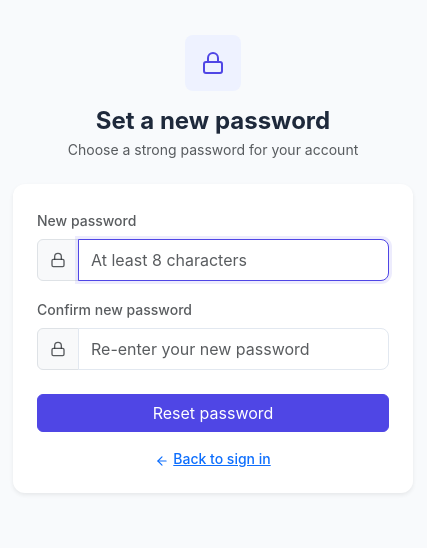
Test case: ResetPassword › rejects mismatched passwords
This screenshot has width=427, height=548.
Type "NewPassword1" into the password field with placeholder "At least 8 characters". click: (234, 260)
box: 78,239 -> 389,281
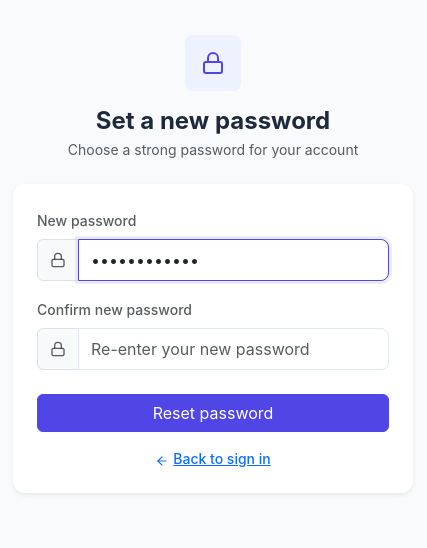
Type "Different1" into the password field with placeholder "Re-enter your new password". click: (234, 349)
box: 78,328 -> 389,370
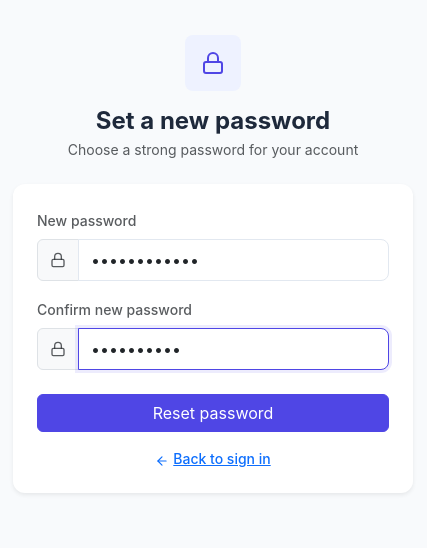
Click the button "Reset password". click: (213, 413)
box: 37,394 -> 389,432
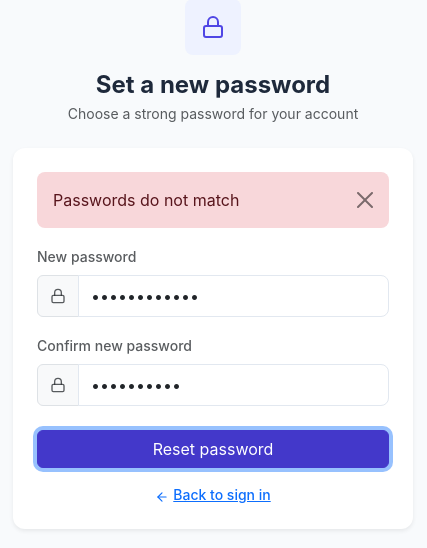
Check: the text "Passwords do not match" is shown, box 37,172 -> 389,228
